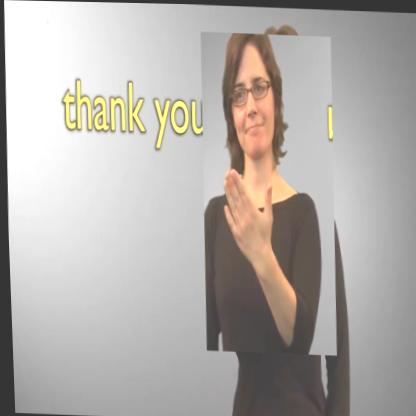ThankYou: (195, 30, 339, 354)
